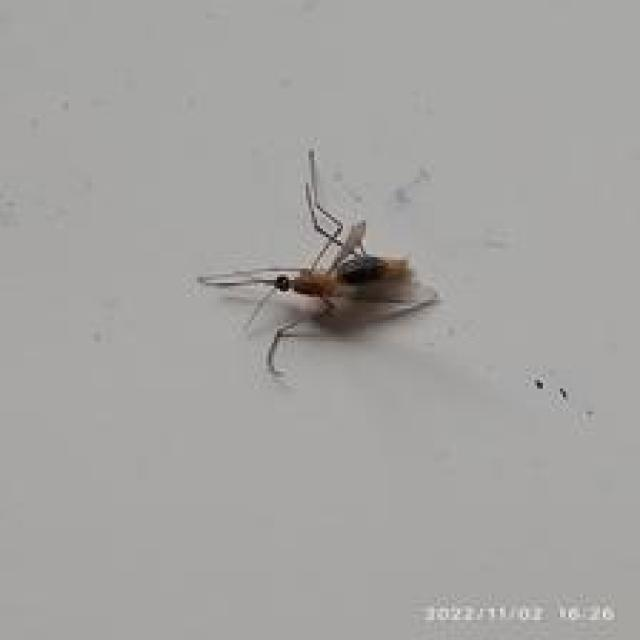Culex: (196, 146, 441, 377)
